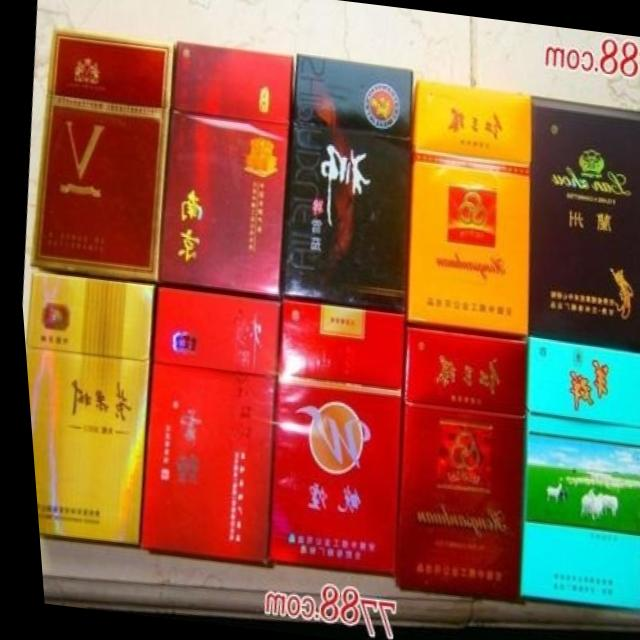box: (132, 285, 274, 567), (260, 298, 401, 574), (385, 325, 521, 601), (25, 30, 173, 283), (20, 271, 149, 550), (153, 42, 292, 298), (276, 53, 413, 311), (512, 336, 640, 609), (402, 79, 531, 335), (523, 97, 640, 354)
